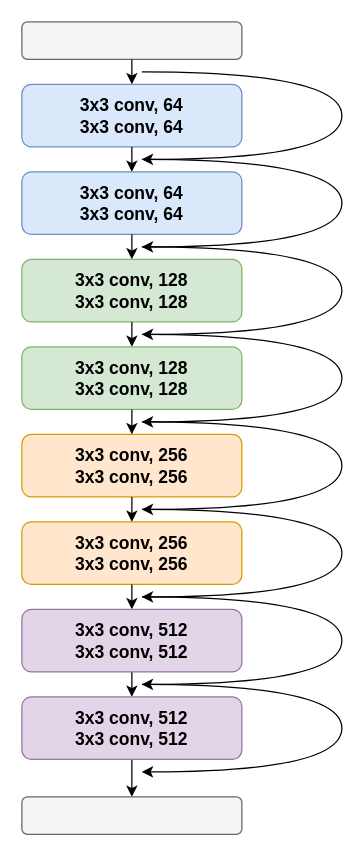
Some shapes in this 364 by 856 pixel diagram are drawn without their labels. The shapes that lost their labels are listed below. From the top down, each one's centre as x and y in pixels, then its label:
At pixel 131 40: "7x7 conv, 64".
At pixel 131 815: "FC, 40".
